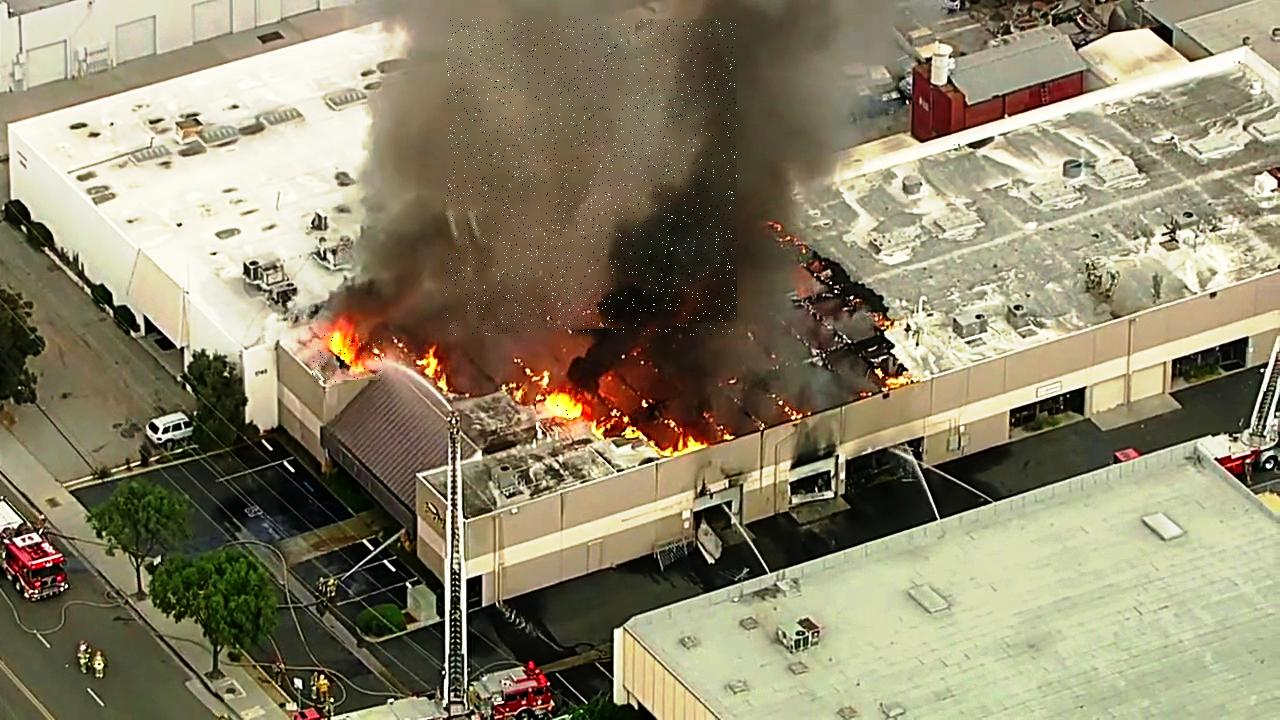fire: (312, 334, 382, 383), (537, 389, 589, 431)
smoke: (446, 19, 737, 335)
